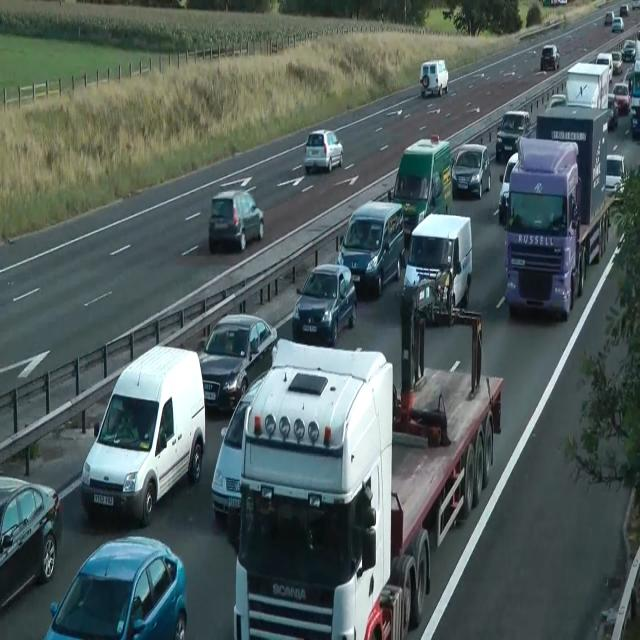bus: (43, 535, 187, 639), (211, 368, 269, 524), (0, 473, 62, 610), (198, 313, 278, 413), (292, 262, 356, 347), (208, 190, 264, 252), (451, 143, 491, 198), (496, 109, 530, 162), (303, 128, 343, 173), (498, 152, 518, 223), (606, 154, 626, 196), (611, 82, 631, 115), (540, 44, 560, 71), (606, 93, 618, 131), (545, 93, 567, 112), (621, 39, 637, 61), (610, 51, 622, 74), (622, 66, 634, 84), (611, 16, 624, 32), (604, 10, 614, 26), (543, 0, 567, 6), (620, 3, 628, 16), (632, 0, 640, 10)
jeep: (80, 342, 206, 527), (400, 212, 472, 322), (336, 199, 405, 296), (419, 59, 449, 97)
minibus: (232, 289, 503, 639), (503, 105, 611, 320), (536, 105, 608, 226), (387, 134, 453, 244), (565, 62, 609, 110), (628, 59, 640, 137)
